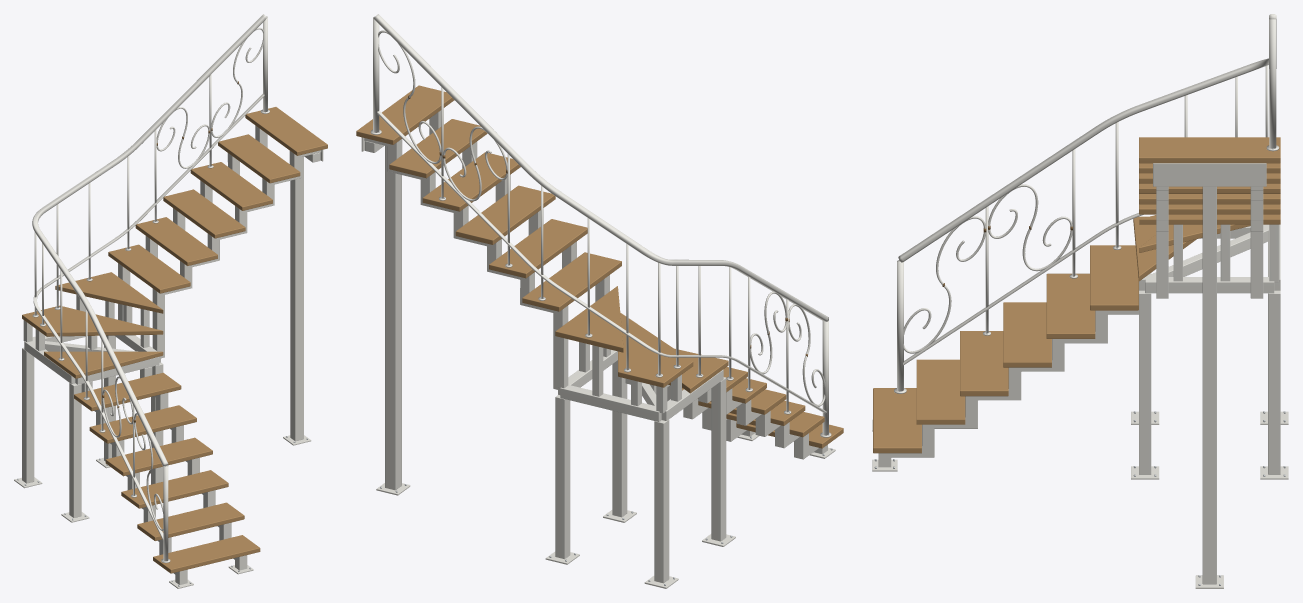
The model's file is loft-DjCPzOqL.glb.
The picture shows the model from 3 angles, left to right: view 1: azimuth 30°, elevation 25°; view 2: azimuth 150°, elevation 25°; view 3: azimuth 270°, elevation 25°; orthographic projection. The views are drawn at different scales.
Parts seen in each view (by area): view 1: Frame folded stringer, Tread 00; view 2: Frame folded stringer, Tread 00; view 3: Frame folded stringer, Tread 00.
Boxes of the visible parts, left/top/right/bottom form: Frame folded stringer: left=14, top=14, right=323, bottom=588; Tread 00: left=22, top=107, right=327, bottom=573; Frame folded stringer: left=361, top=14, right=835, bottom=588; Tread 00: left=356, top=85, right=843, bottom=448; Frame folded stringer: left=872, top=14, right=1288, bottom=588; Tread 00: left=873, top=137, right=1280, bottom=453.
Size of the model in its own units: 2.64 by 3.94 by 2.64.
